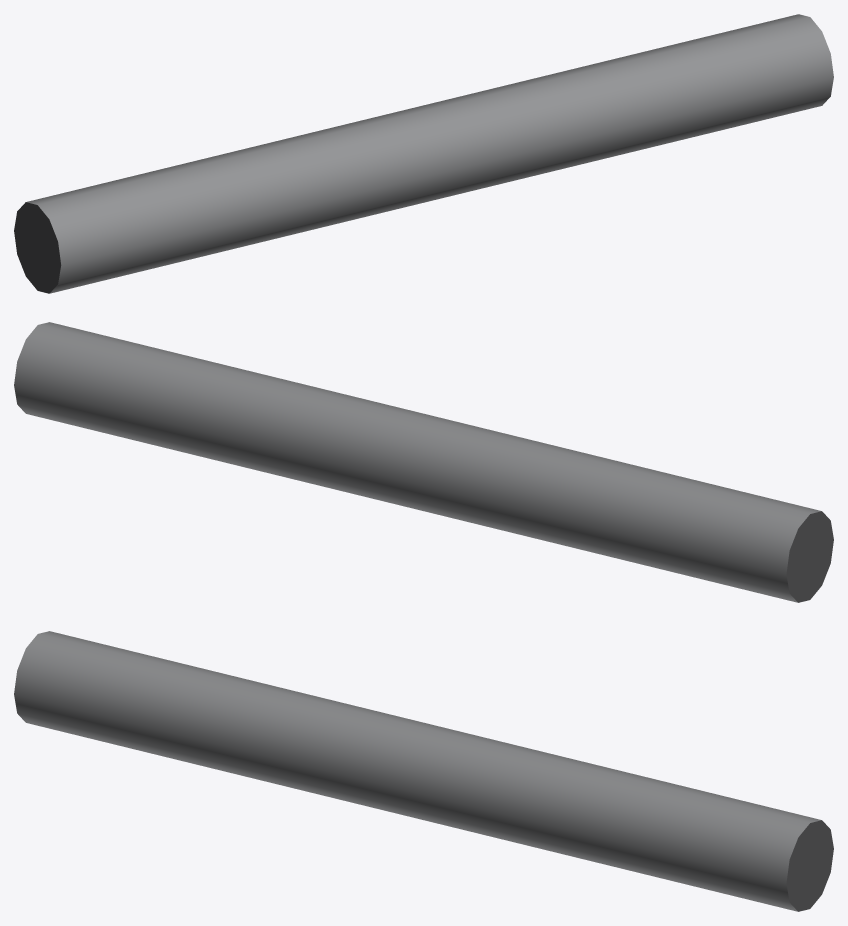
The picture shows the model from 3 angles, top to bottom: view 1: azimuth 30°, elevation 25°; view 2: azimuth 150°, elevation 25°; view 3: azimuth 330°, elevation 25°; orthographic projection.
Size of the model in its own units: 1.03 by 0.1089 by 0.1104.
